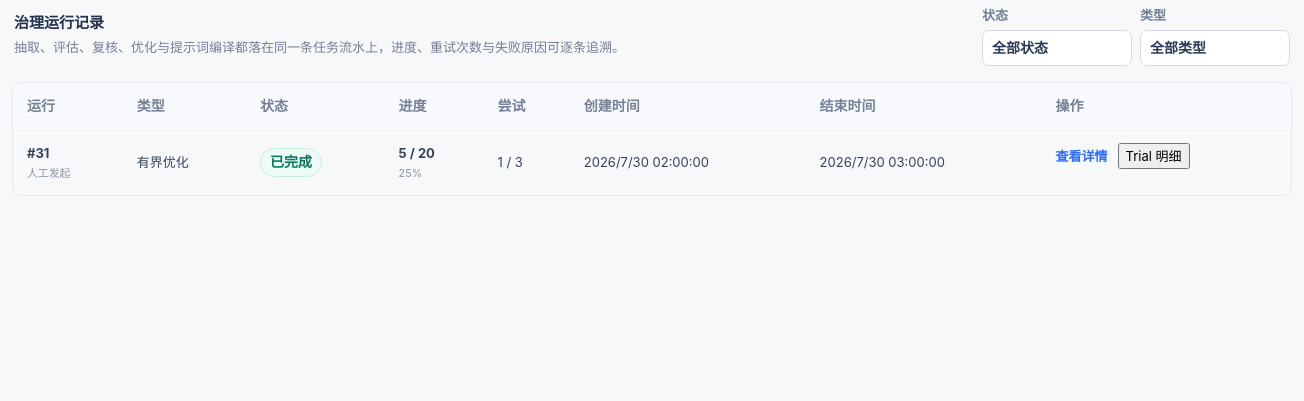
Test case: RunsPanel › drills an optimize job into its optimization run trials
This screenshot has width=1304, height=401.
Click the button with aria-label "查看运行 31 的 Trial 明细" at (1154, 156), box [1118,143,1190,169]
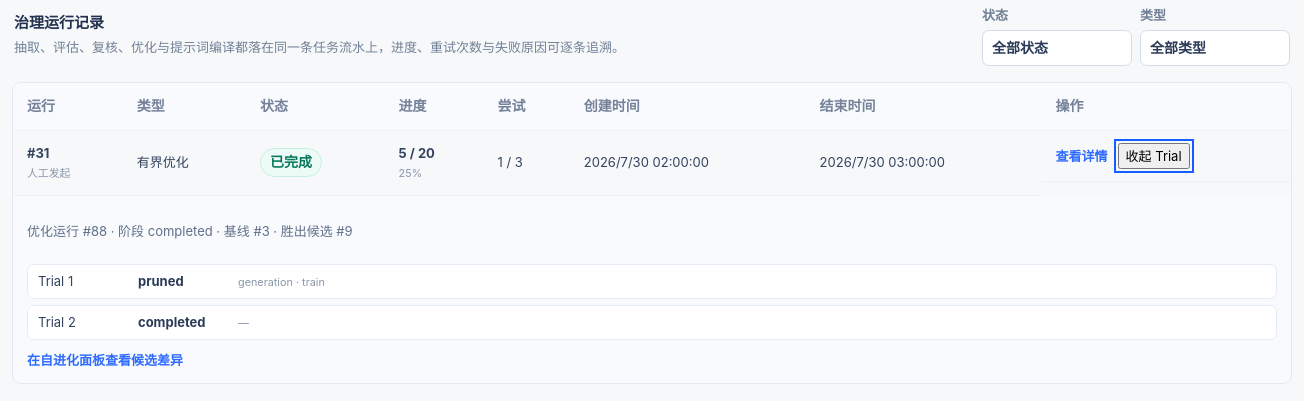
expect the text "Trial 1" is shown: met, box [38,274,73,290]
expect the text "generation · train" is shown: met, box [238,276,325,290]
expect the text "优化运行 #88 · 阶段 completed · 基线 #3 · 胜出候选 #9" is shown: met, box [27,223,353,239]
